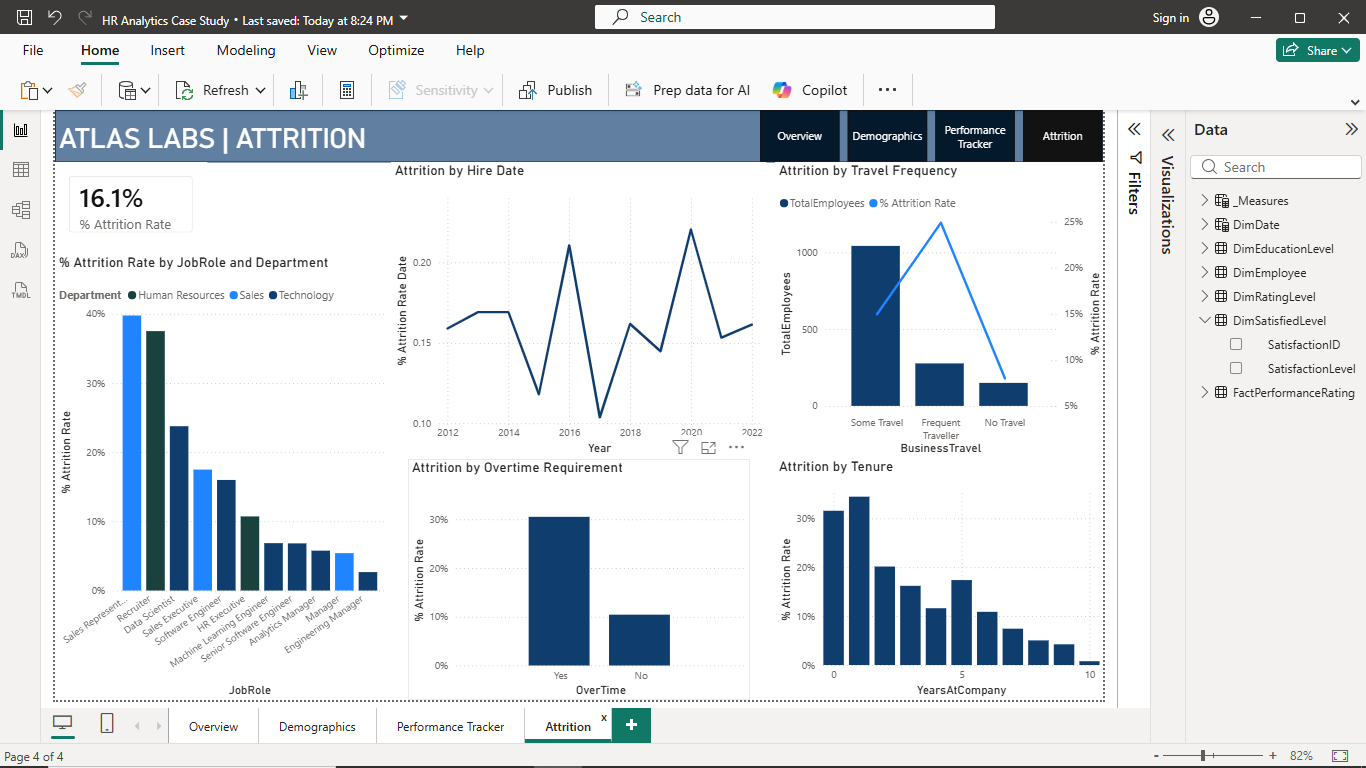

The page's visual inventory and layout, read from the dashboard file:
{"tool":"powerbi","page":{"name":"Attrition","canvas":[1280,720],"ordinal":3},"visuals":[{"type":"shape","box":[0,0,1280,63.8],"z":0},{"type":"cardVisual","fields":{"Data":["_Measures.% Attrition Rate"]},"box":[0,63.3,185.8,103.2],"z":1000},{"type":"columnChart","fields":{"Category":["DimEmployee.JobRole"],"Y":["_Measures.% Attrition Rate"],"Series":["DimEmployee.Department"]},"box":[0,176.2,410.2,545],"z":2000},{"type":"lineChart","title":"Attrition by Hire Date","fields":{"Category":["DimDate.Date.Variation.Date Hierarchy.Year"],"Y":["_Measures.% Attrition Rate Date"]},"box":[410.2,63.3,458.3,362],"z":3000},{"type":"lineStackedColumnComboChart","title":"Attrition by Travel Frequency","fields":{"Y":["_Measures.TotalEmployees"],"Y2":["_Measures.% Attrition Rate"],"Category":["DimEmployee.BusinessTravel"]},"box":[878.1,63.3,401.9,362],"z":4000},{"type":"columnChart","title":"Attrition by Overtime Requirement","fields":{"Y":["_Measures.% Attrition Rate"],"Category":["DimEmployee.OverTime"]},"box":[430.8,425.3,417,295],"z":5000},{"type":"columnChart","title":"Attrition by Tenure","fields":{"Y":["_Measures.% Attrition Rate"],"Category":["DimEmployee.YearsAtCompany"]},"box":[878.5,425,401.5,295.6],"z":6000},{"type":"pageNavigator","box":[859.9,0,419.9,63.8],"z":8000},{"type":"textbox","box":[0,9.9,490.6,50.7],"z":8001}]}

Visuals, with their boxes on the page's 1280x720 design canvas (x1, y1, x2, y2). These are canvas units, not pixel positions in the 1366x768 screenshot, which may show the page scaled, cropped or inside an application window:
shape: {"left": 0, "top": 0, "right": 1280, "bottom": 64}
cardVisual - _Measures.% Attrition Rate: {"left": 0, "top": 63, "right": 186, "bottom": 166}
columnChart - DimEmployee.JobRole x _Measures.% Attrition Rate: {"left": 0, "top": 176, "right": 410, "bottom": 721}
"Attrition by Hire Date" lineChart: {"left": 410, "top": 63, "right": 868, "bottom": 425}
"Attrition by Travel Frequency" lineStackedColumnComboChart: {"left": 878, "top": 63, "right": 1280, "bottom": 425}
"Attrition by Overtime Requirement" columnChart: {"left": 431, "top": 425, "right": 848, "bottom": 720}
"Attrition by Tenure" columnChart: {"left": 878, "top": 425, "right": 1280, "bottom": 721}
pageNavigator: {"left": 860, "top": 0, "right": 1280, "bottom": 64}
textbox: {"left": 0, "top": 10, "right": 491, "bottom": 61}
